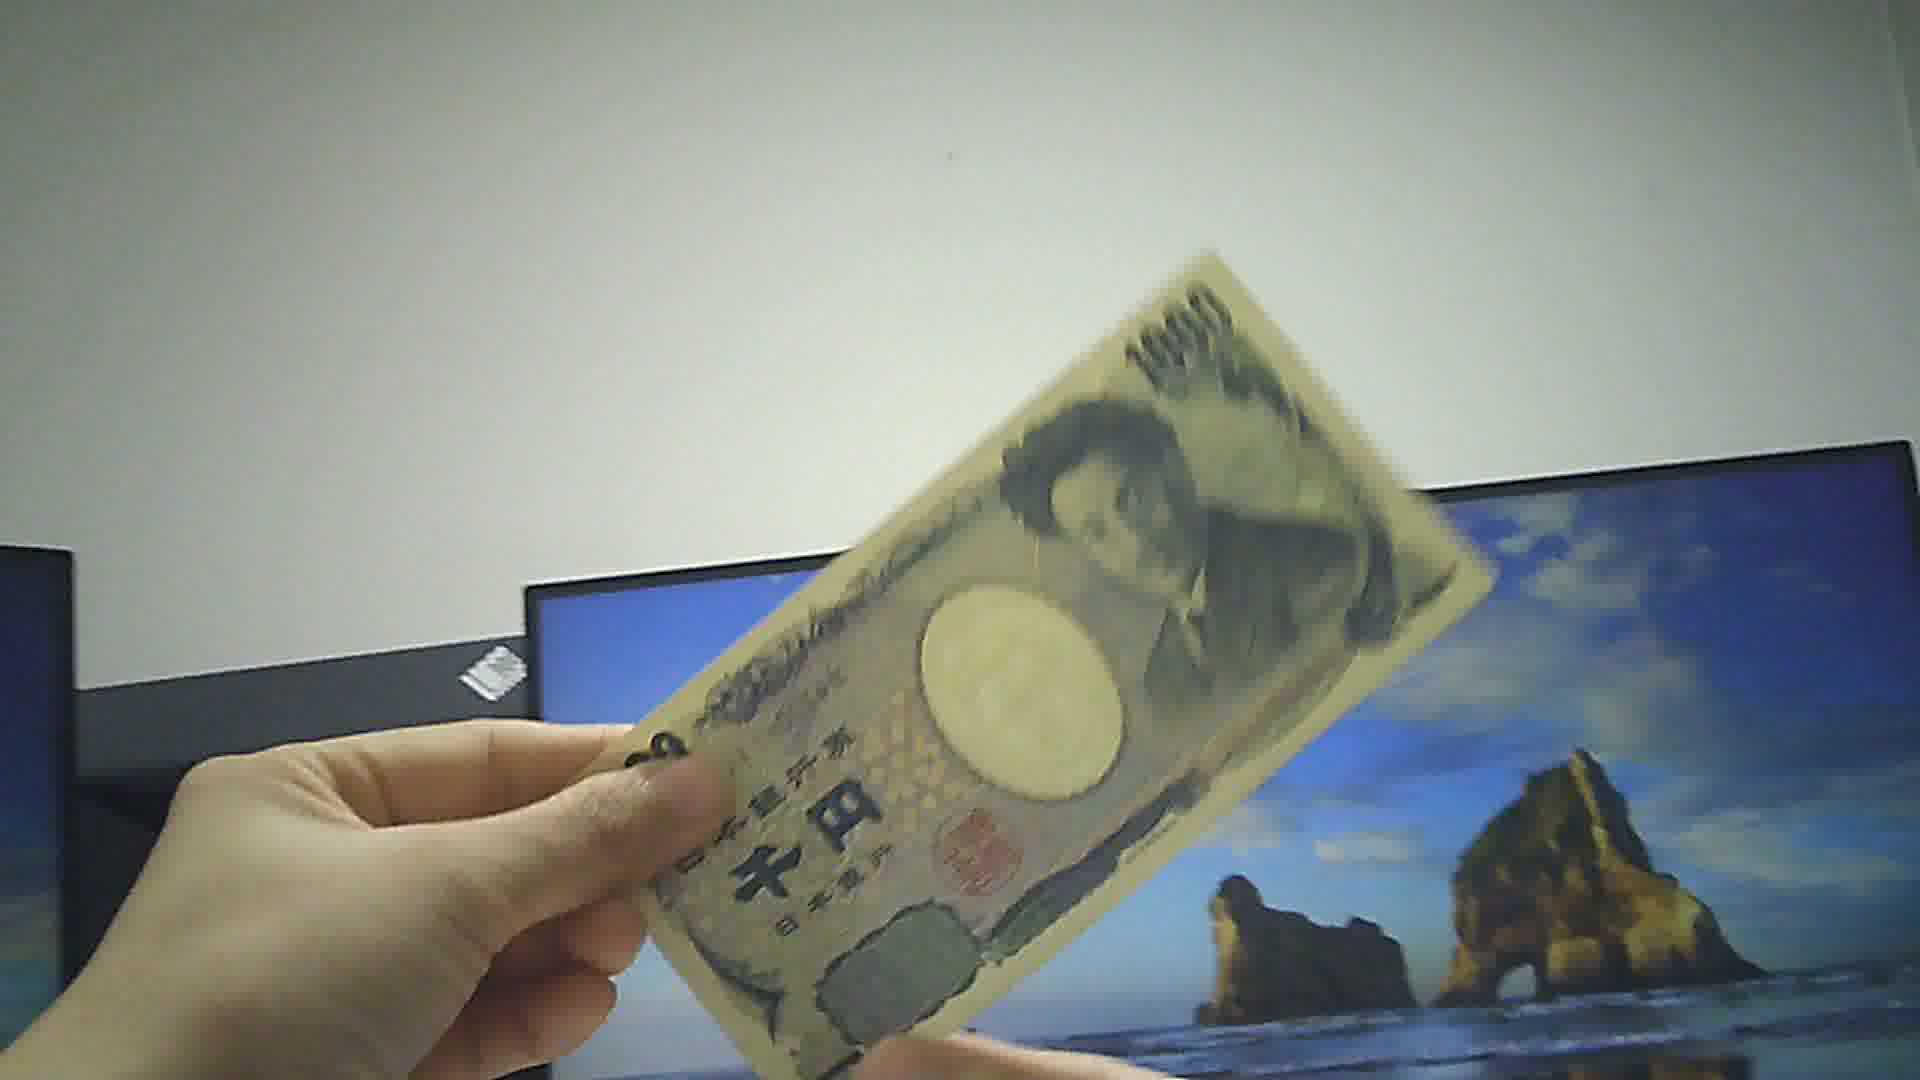1,000 Yen: (555, 227, 1509, 1079)
